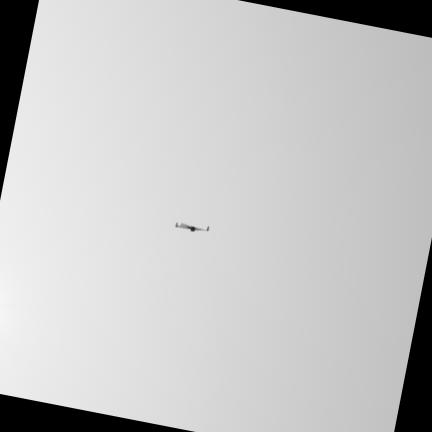Shahed: (174, 222, 209, 232)
